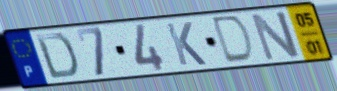4: (132, 21, 167, 73)
7: (74, 25, 108, 79)
D: (211, 14, 257, 66), (33, 32, 81, 81)
K: (163, 21, 209, 68)
N: (248, 9, 303, 64)
